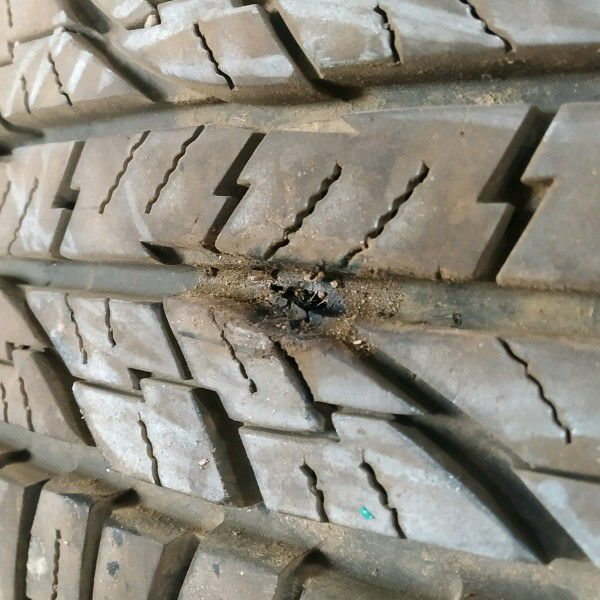tr: (238, 254, 356, 338)
